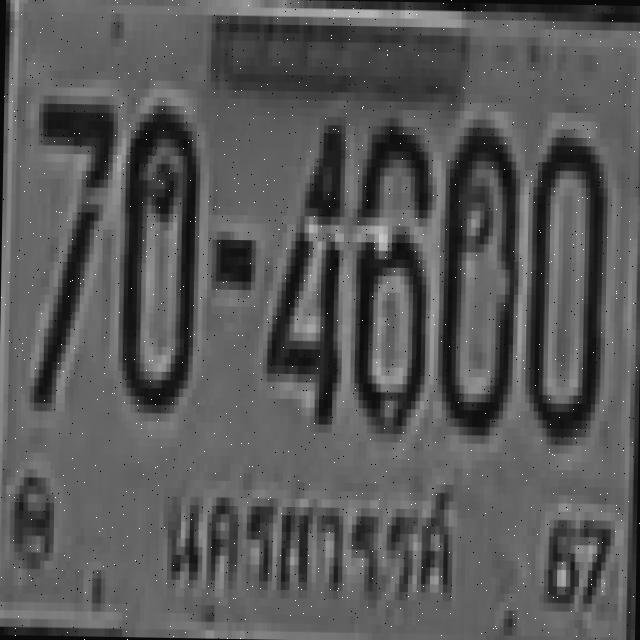0: (524, 128, 604, 438), (116, 96, 196, 405), (436, 118, 516, 427)
4: (262, 111, 342, 420)
6: (349, 117, 429, 426)
7: (29, 94, 113, 403)
NakhonSawan: (152, 465, 467, 617)
